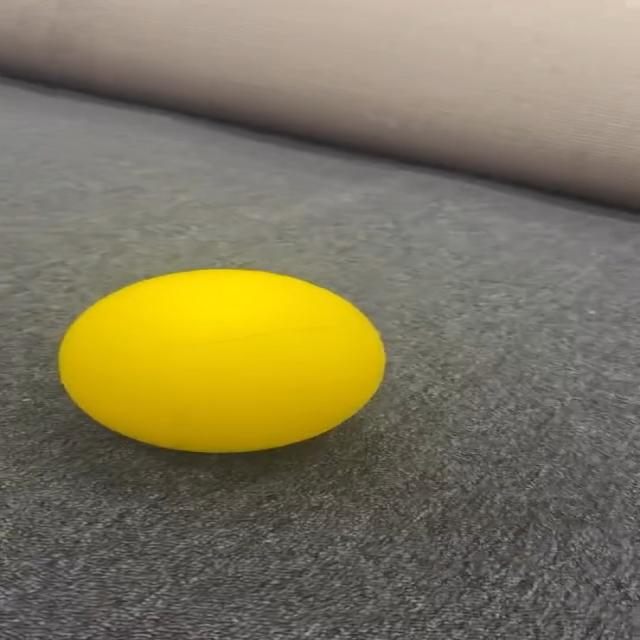Fuels: (61, 269, 387, 450)
